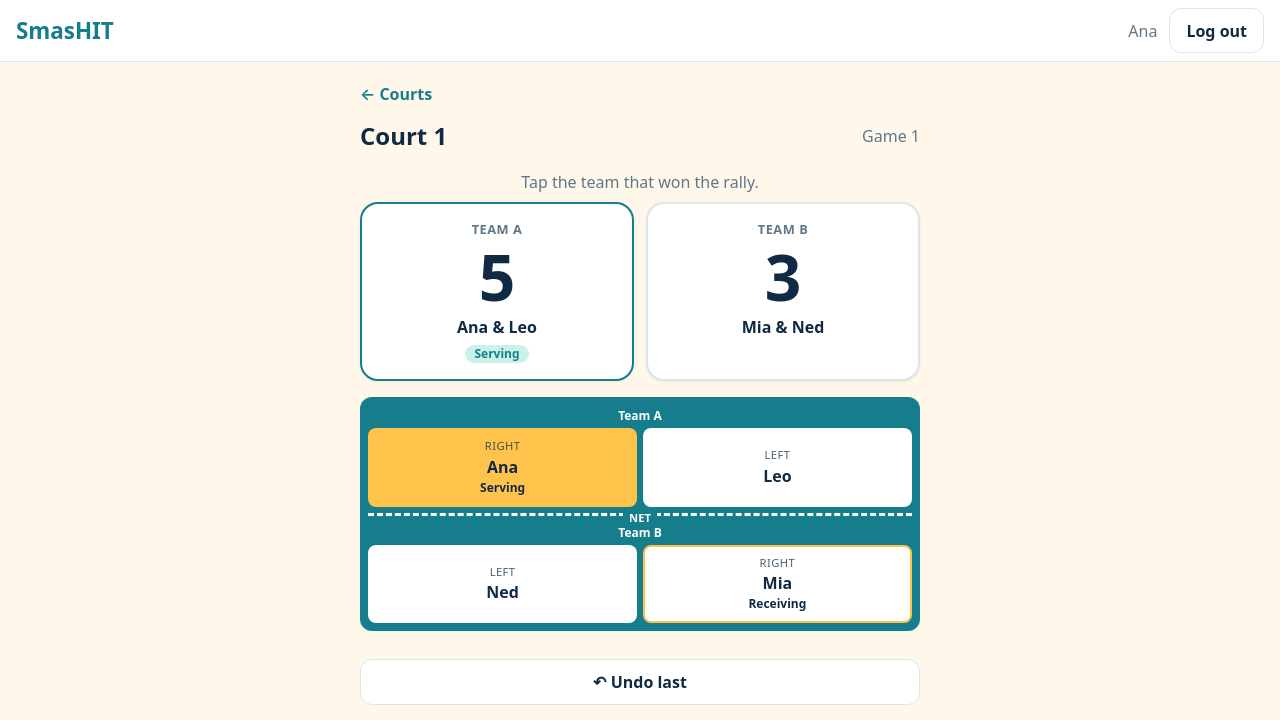
Test: Court screen › records a rally for the team that was tapped
Check: the text "3" is shown, box [765,242,801,312]
Check: the picture named "Ana serves to Mia" is shown, box [360,397,920,631]
Step 1. Click the button with aria-label "Point to Team B, Mia & Ned" → click(783, 292), box [646,202,920,381]
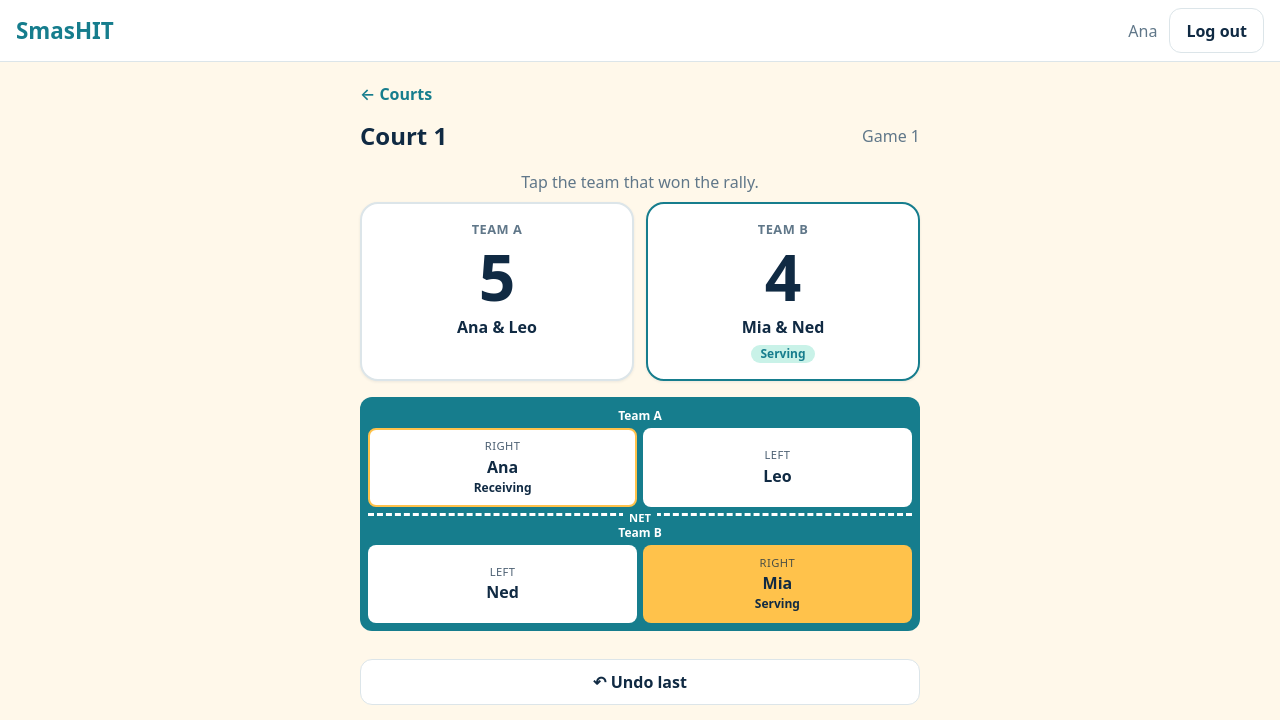
Check: the 1st text "Serving" is shown, box [751,345,815,363]
Check: the text "4" is shown, box [765,242,801,312]
Check: the picture named "Mia serves to Ana" is shown, box [360,397,920,631]
